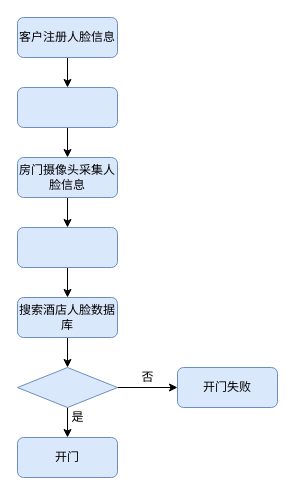
The diagram is 295 pixels wide and 495 high, and some of its shapes have lost their labels. The centre of each missing label's shape, as x and y in pixels:
"住户扫脸" goes at (x=67, y=107).
"提取摄像头画面中的人脸特征信息" goes at (x=67, y=247).
"搜索是否成功" goes at (x=67, y=387).
